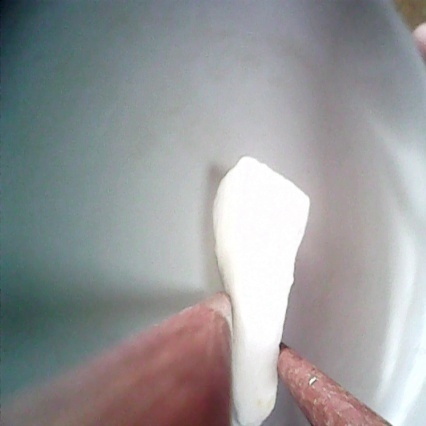white_chinese-yam: (207, 151, 315, 426)
